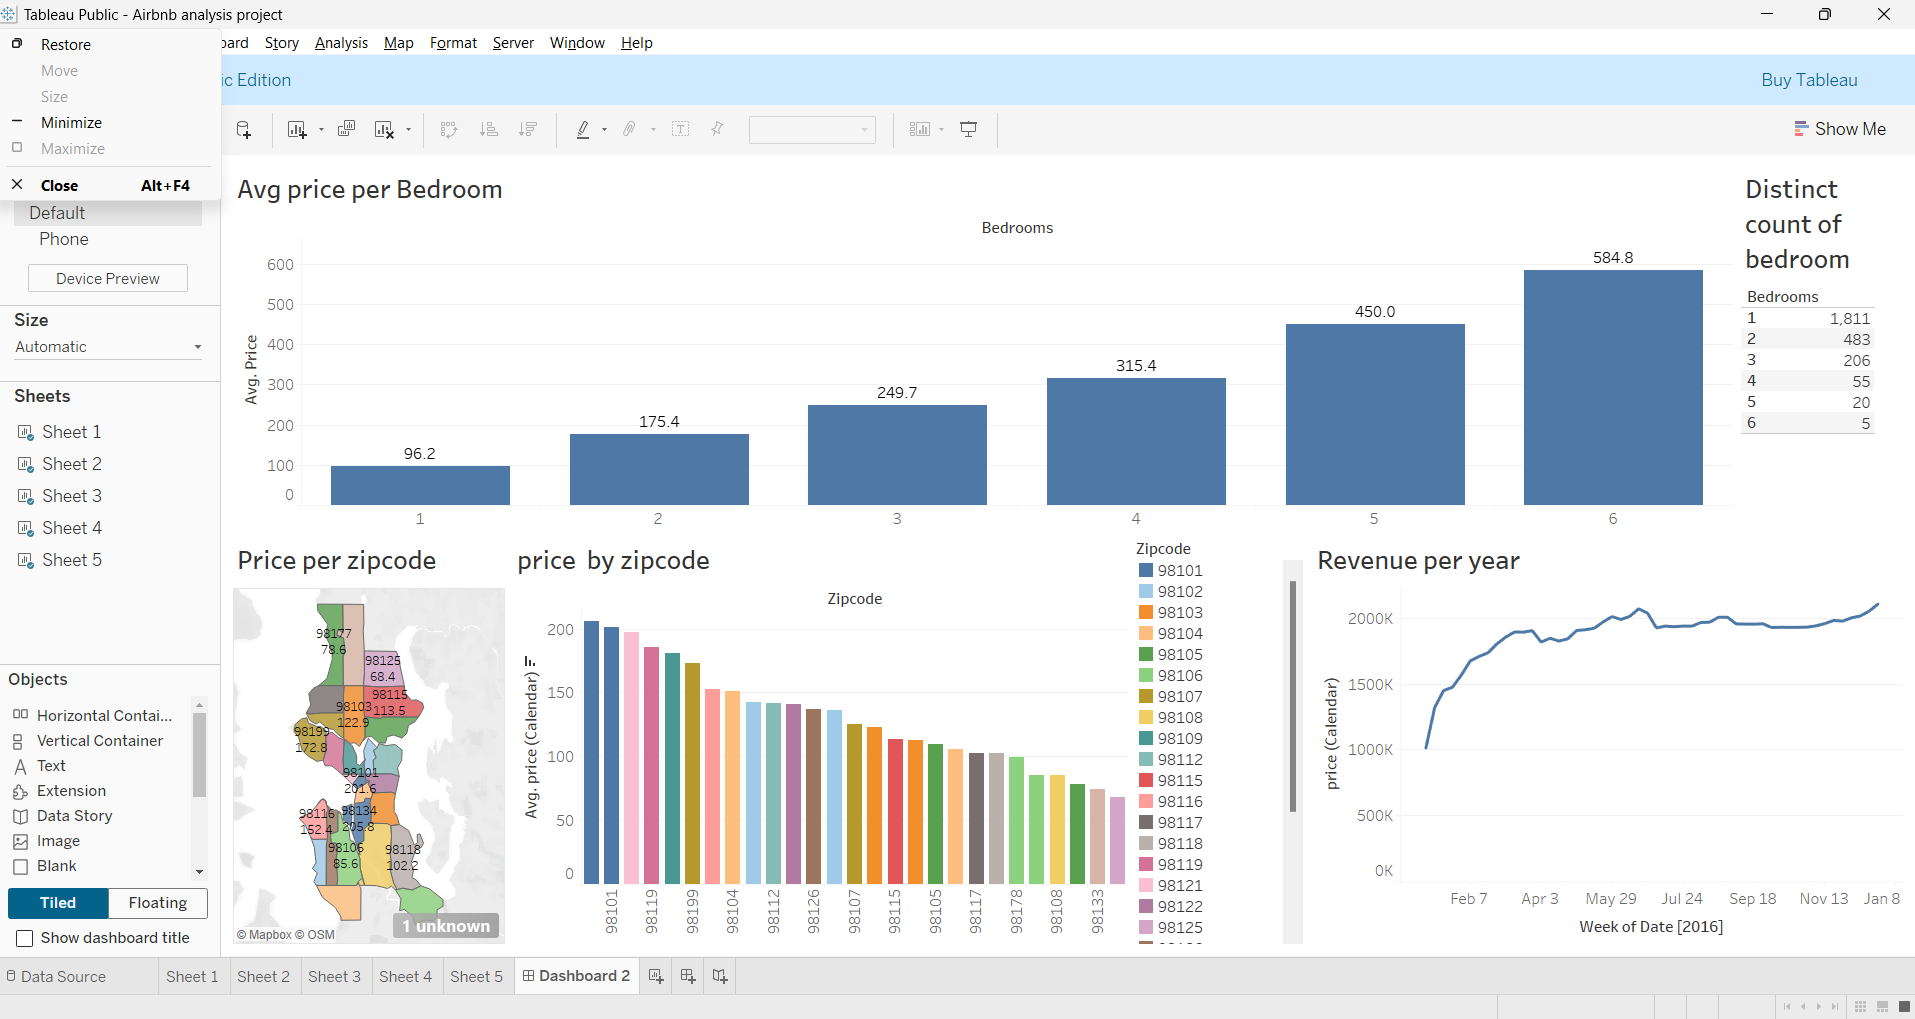

What the dashboard file says about the page in this screenshot:
{"tool":"tableau","page":{"name":"Dashboard 2","canvas":[1000,1000],"units":"permille","ordinal":0},"visuals":[{"type":"worksheet","title":"Sheet 4","mark":"Automatic","rows":["price"],"cols":["bedrooms"],"box":[4.7,10,890.2,463.2]},{"type":"worksheet","title":"Sheet 5","mark":"Automatic","rows":["bedrooms"],"box":[894.9,10,100.4,463.2]},{"type":"worksheet","title":"Sheet 2","mark":"Multipolygon","box":[4.7,473.2,165.3,516.9]},{"type":"worksheet","title":"Sheet 1","mark":"Automatic","rows":["price (Calendar)"],"cols":["zipcode"],"box":[170,473.2,368,516.9]},{"type":"legend","title":"Sheet 1","param":"[federated.18pr46y12kwsf5137ya5e190s41p].[none:zipcode:ok]","box":[538,473.2,104.4,516.9]},{"type":"worksheet","title":"Sheet 3","mark":"Automatic","rows":["price (Calendar)"],"cols":["date"],"box":[642.4,473.2,352.9,516.9]}]}

Visuals, with their boxes on the dashboard's canvas, which has no fixed pixel size, in thousandths of its width and height (x1, y1, x2, y2). These are canvas units, not pixel positions in the 1915x1019 screenshot, which may show the page scaled, cropped or inside an application window:
"Sheet 4" worksheet: (5,10,895,473)
"Sheet 5" worksheet: (895,10,995,473)
"Sheet 2" worksheet (Multipolygon marks): (5,473,170,990)
"Sheet 1" worksheet: (170,473,538,990)
"Sheet 1" legend: (538,473,642,990)
"Sheet 3" worksheet: (642,473,995,990)
